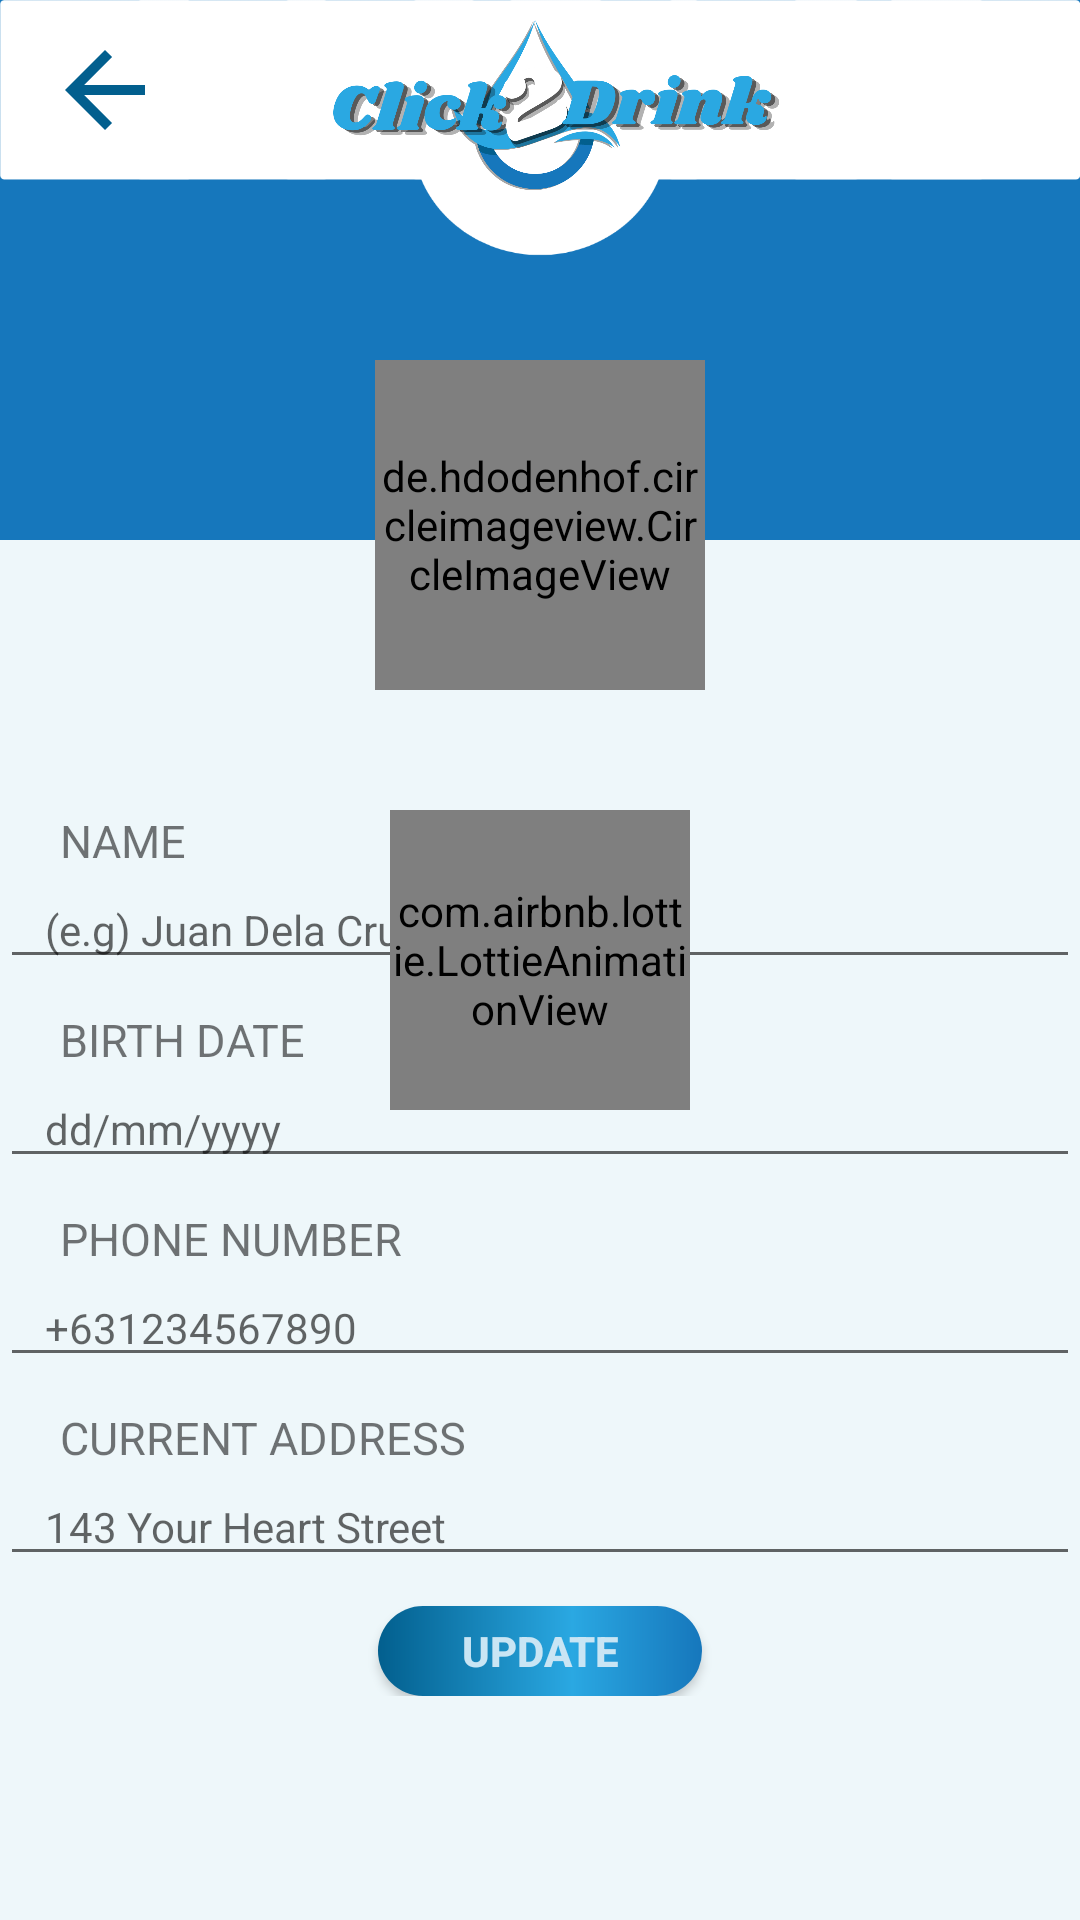

Point at icon controls on the screen. Image size 1080 x 1920, points as (x=x, y=y).
back: (x=105, y=90)
